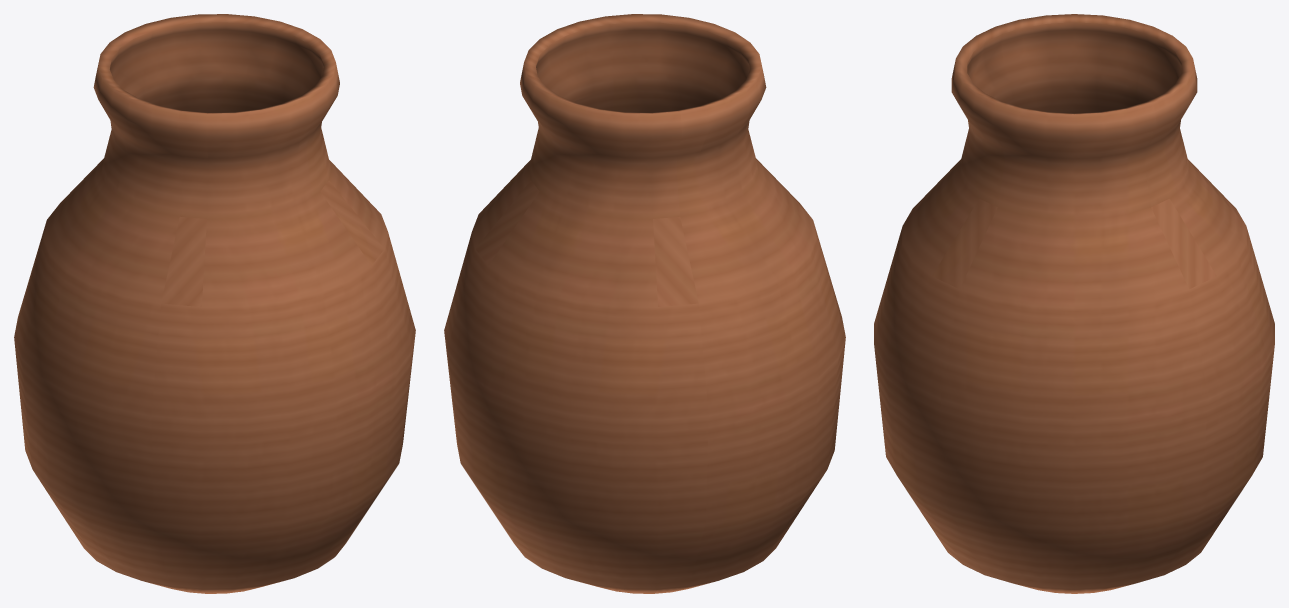
File: p_pot.glb
3 renders of one model, left to right at view 1: azimuth 30°, elevation 25°; view 2: azimuth 150°, elevation 25°; view 3: azimuth 270°, elevation 25°, orthographic.
Parts seen in each view (by area): view 1: pot; view 2: pot; view 3: pot.
Part boxes in pixels (x1,y1,x2,y2): pot: (14,14,415,593); pot: (444,14,845,593); pot: (874,14,1274,593).
Bounding box in the file's own units: 0.5143 × 0.7 × 0.5106.
1 material, 1 textured.
